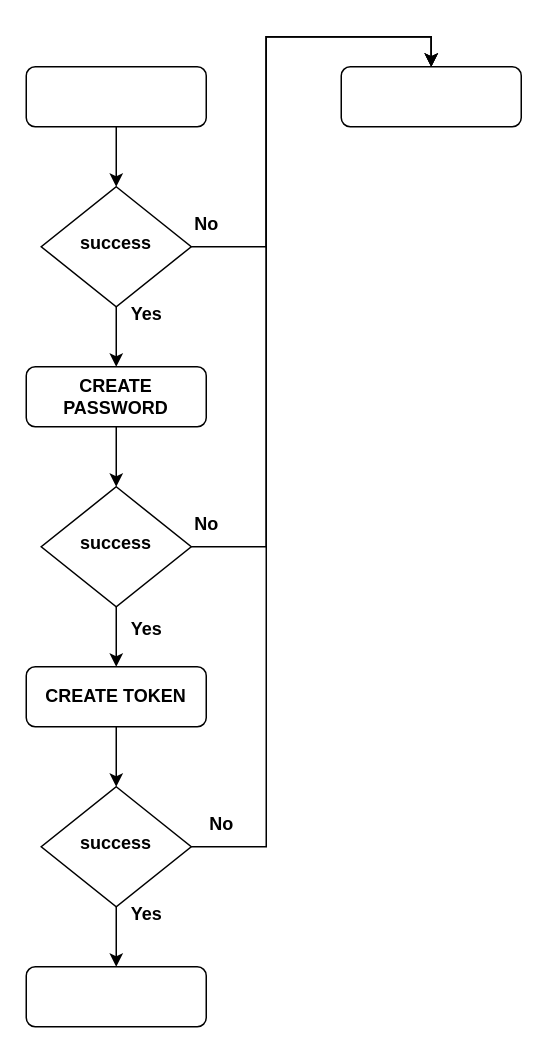
Image size: 548x1053. Some labels were removed from this diagram. Here are the shapes that lost their labels. From the top down, the centre of each, then its label:
the point at 115,96: CREATE USER
the point at 430,96: ABORT
the point at 115,996: COMMIT
